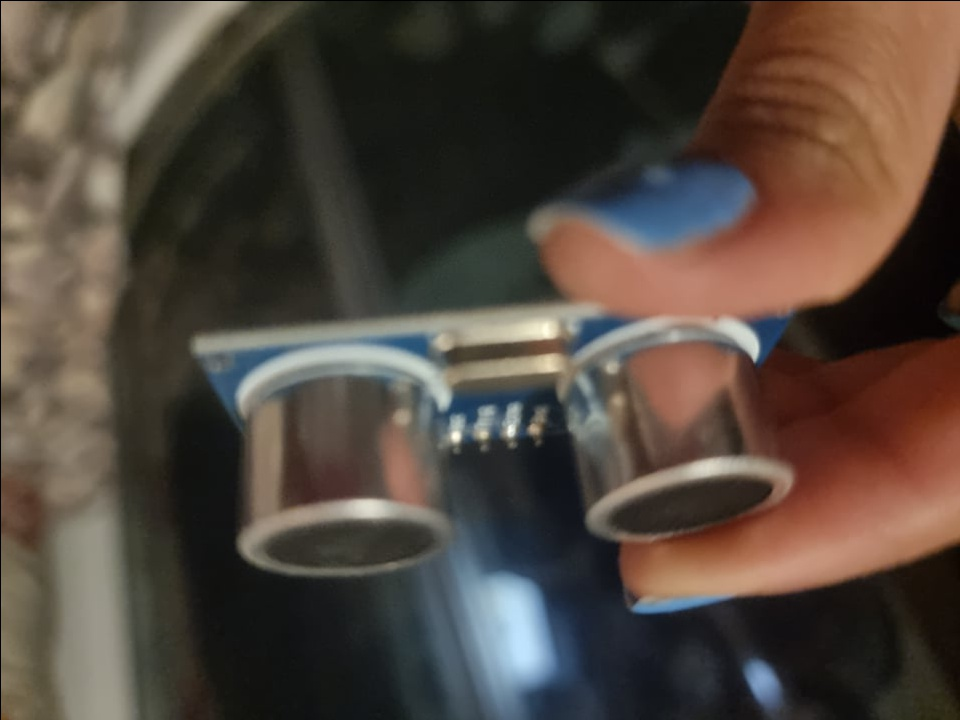SENSOR: (187, 305, 801, 580)
